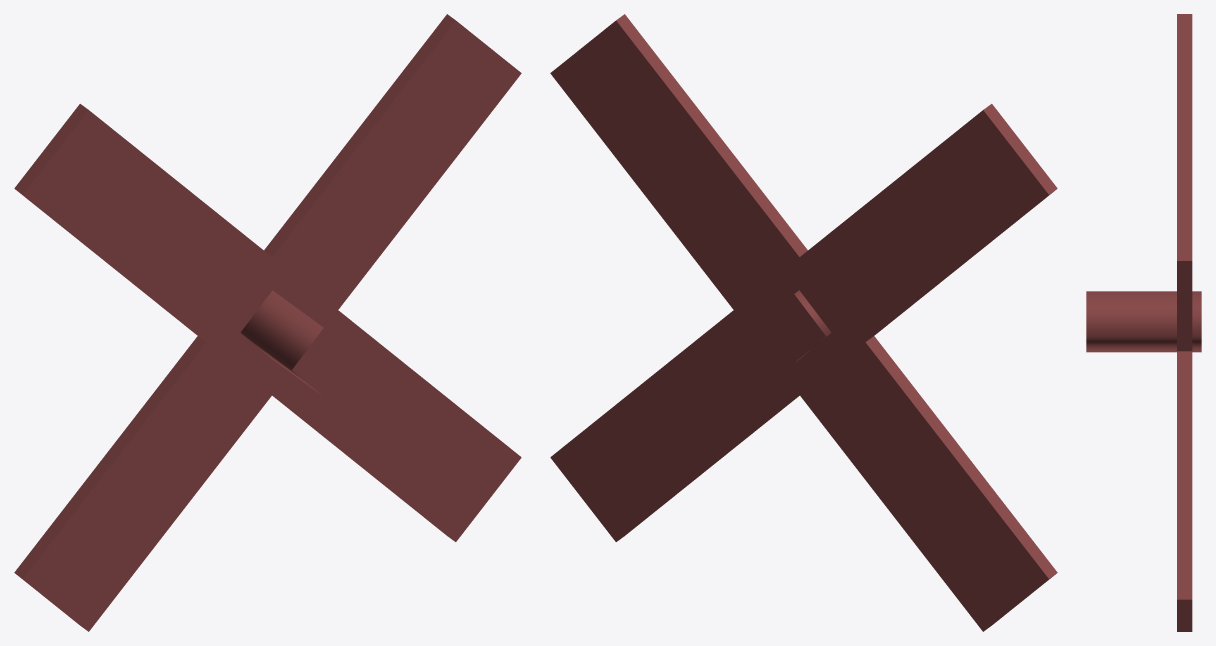
File: WindmillBladesFixed.obj
The picture shows the model from 3 angles, left to right: view 1: azimuth 30°, elevation 25°; view 2: azimuth 150°, elevation 25°; view 3: azimuth 270°, elevation 25°; orthographic projection. The views are drawn at different scales.
Parts seen in each view (by area): view 1: WindmillBladesFixed; view 2: WindmillBladesFixed; view 3: WindmillBladesFixed.
Boxes of the visible parts, left/top/right/bottom form: WindmillBladesFixed: left=14, top=14, right=521, bottom=631; WindmillBladesFixed: left=550, top=14, right=1057, bottom=631; WindmillBladesFixed: left=1086, top=14, right=1201, bottom=631.
Size of the model in its own units: 5.38 by 5.38 by 1.22.
